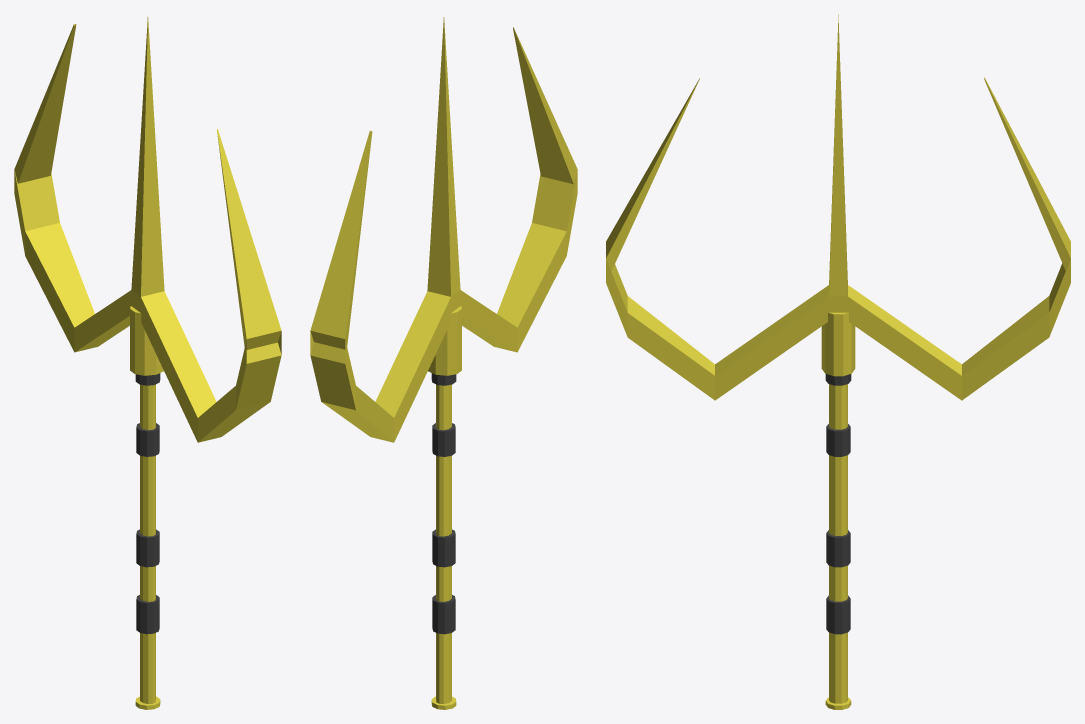
File: Trident.glb
3 views of the same model, side by side, from view 1: azimuth 30°, elevation 25°; view 2: azimuth 150°, elevation 25°; view 3: azimuth 270°, elevation 25° (orthographic).
Visible parts, largest first — view 1: Trident; view 2: Trident; view 3: Trident.
Part boxes in pixels (bbox=[...]): Trident: bbox=[14, 17, 281, 709]; Trident: bbox=[310, 17, 577, 709]; Trident: bbox=[606, 14, 1070, 709].
Size of the model in its own units: 3.16 by 59.89 by 36.52.
